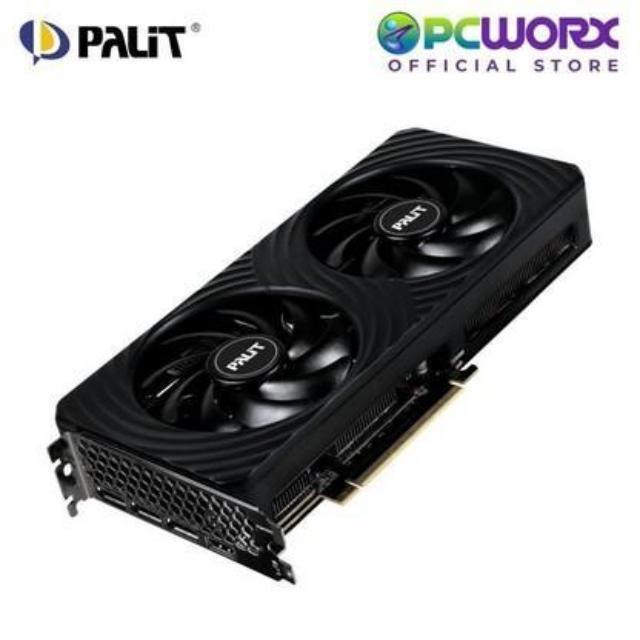GPU: (41, 114, 601, 549)
